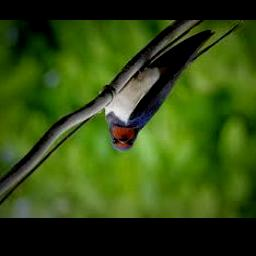Swallow: (104, 23, 242, 152)
